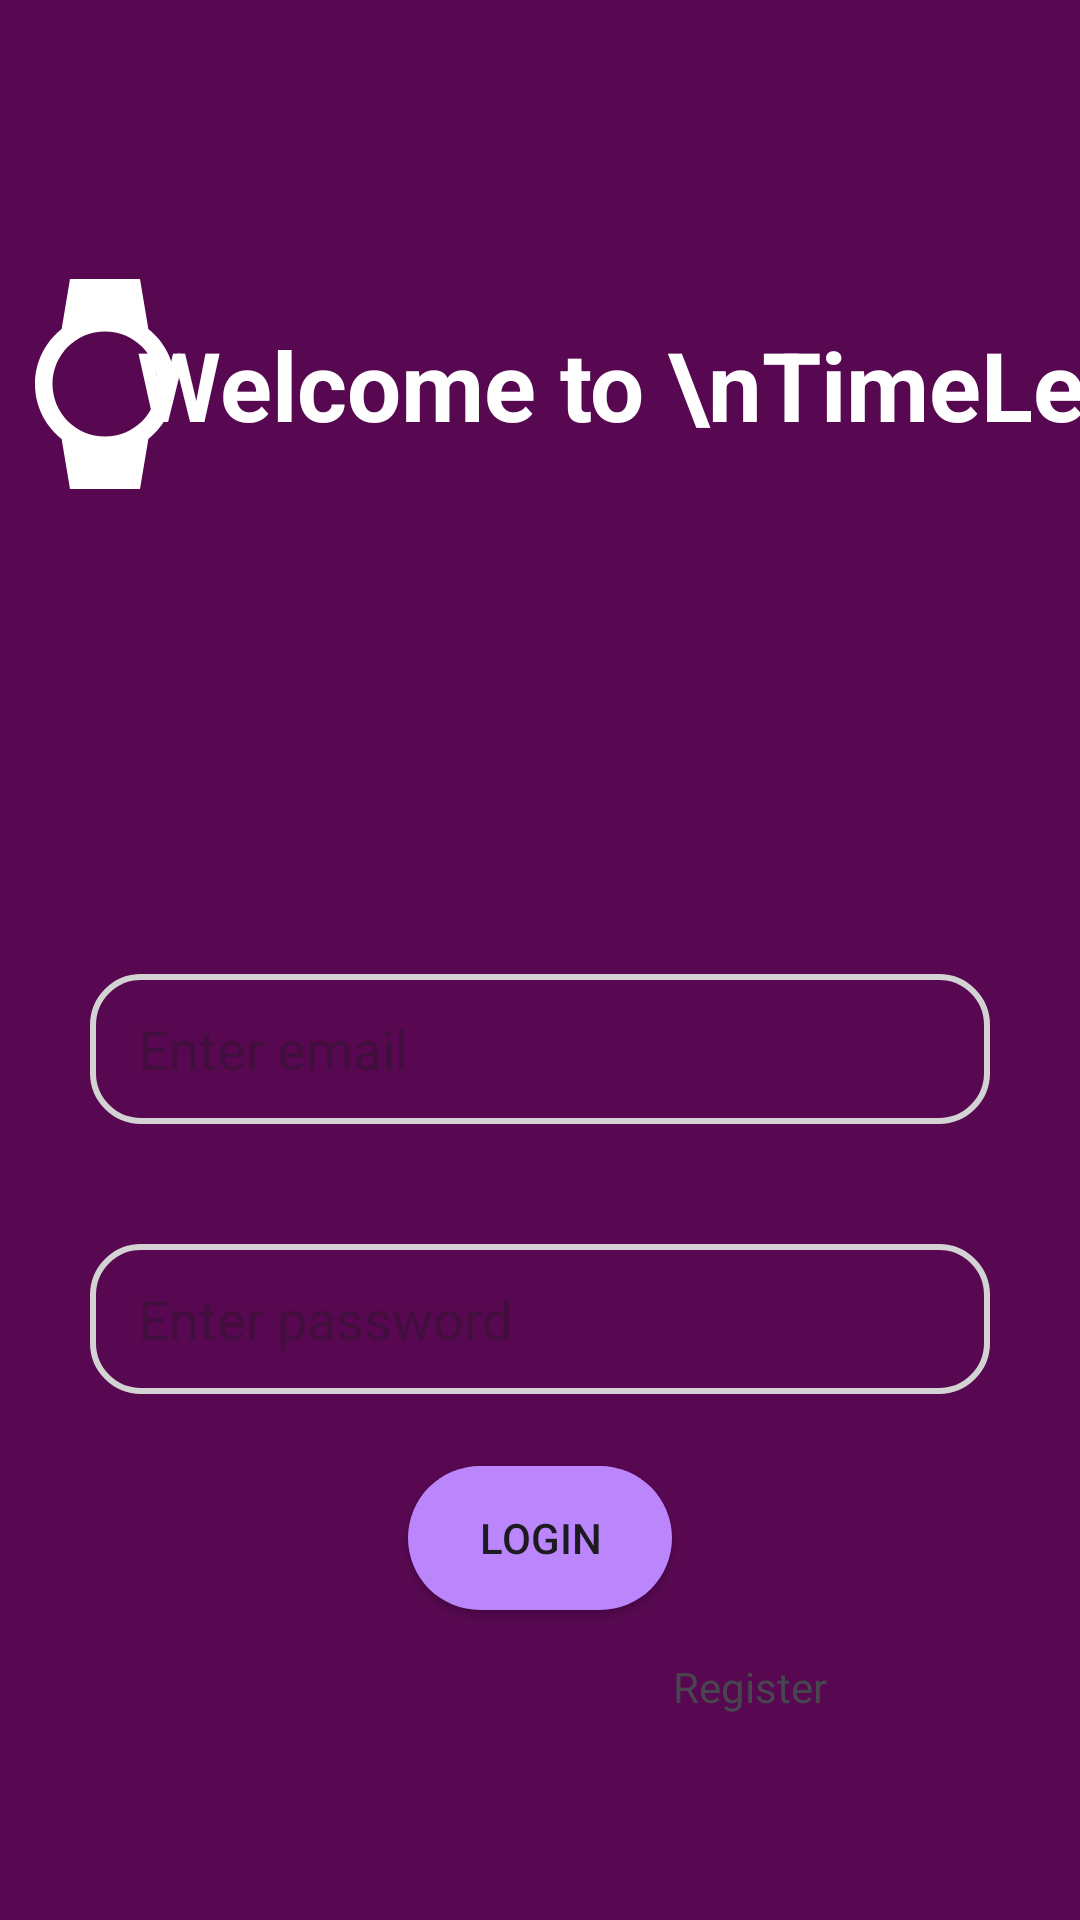

Screen size 1080×1920. Icon name, then its center in pixels as (x,y):
wristwatchwhite: (122,384)
